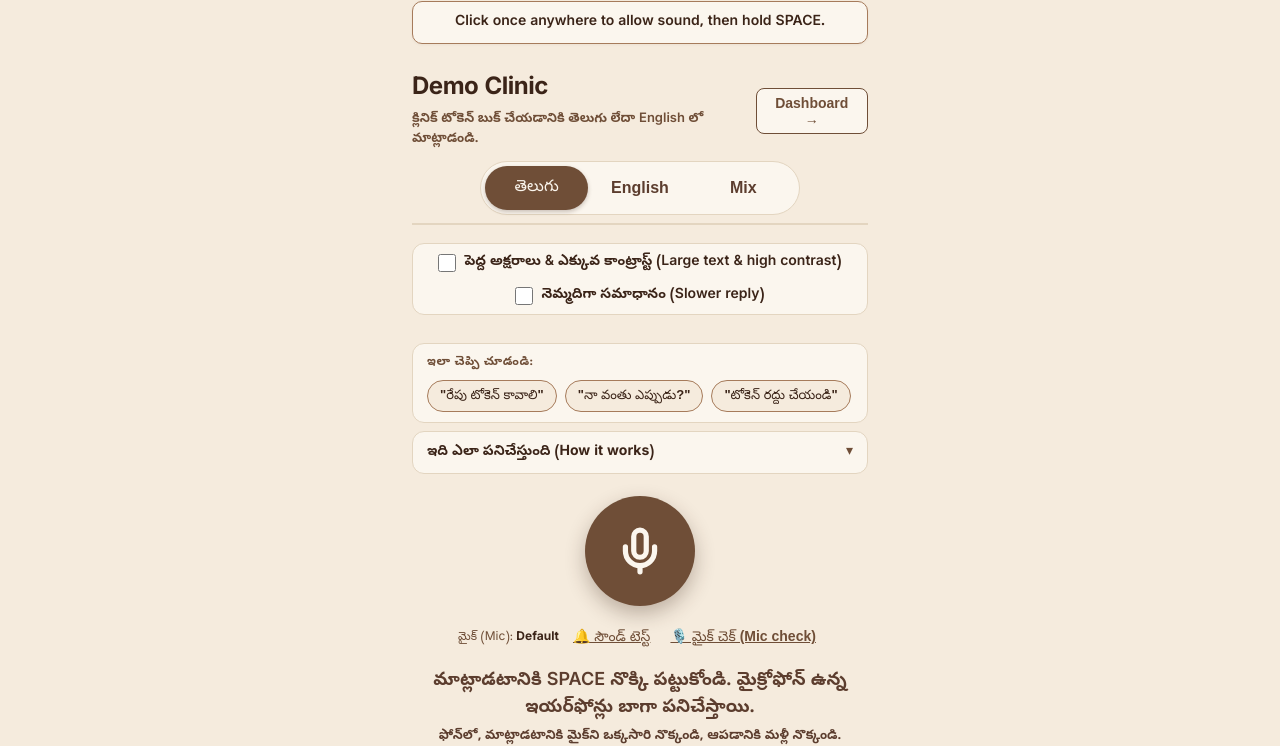
Test case: Patient App Component Tests (Vitest + RTL) › 4. Confirm-cancel buttons appear and send YES/NO turn requests
The width and height of the screenshot is (1280, 746).
// Switch to English for deterministic button and placeholder lookups
Click the button "English" at (640, 188), box [588, 166, 692, 210]
(page scrolled)
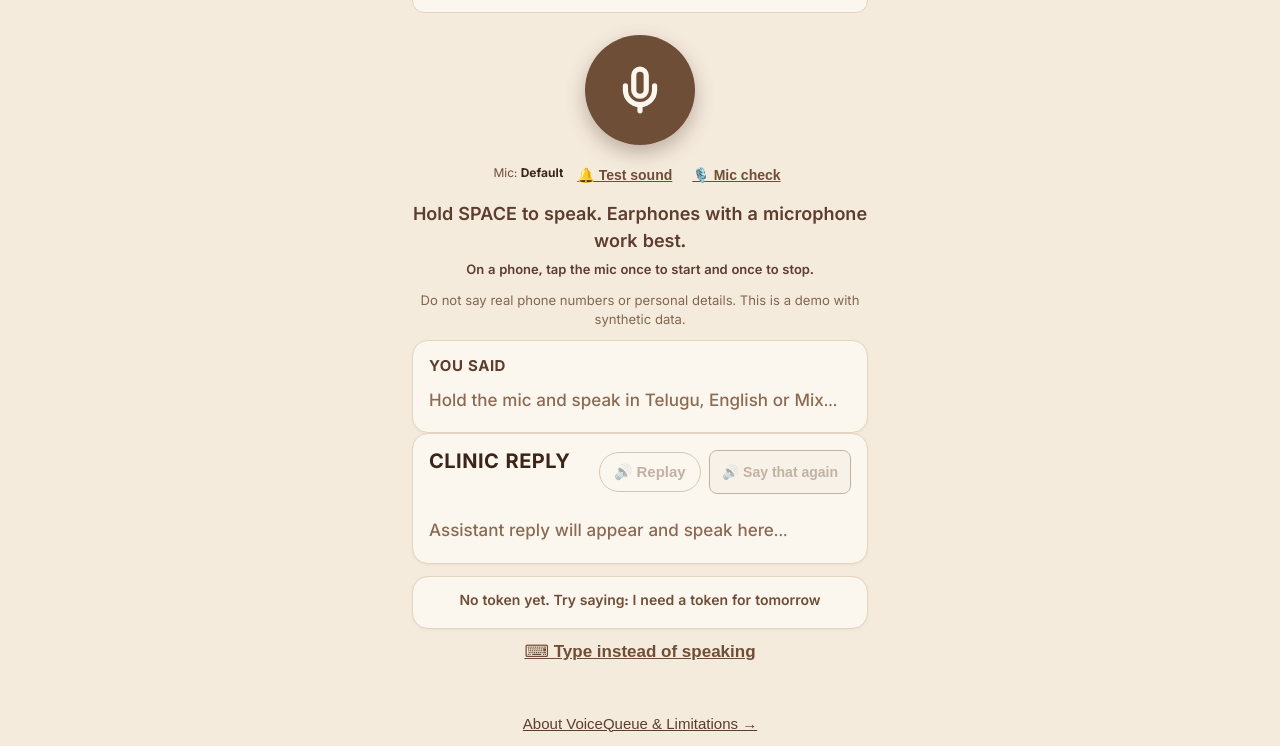
// Open typing box and send 'cancel'
Click the button "⌨ Type instead of speaking" at (640, 651), box [516, 629, 764, 673]
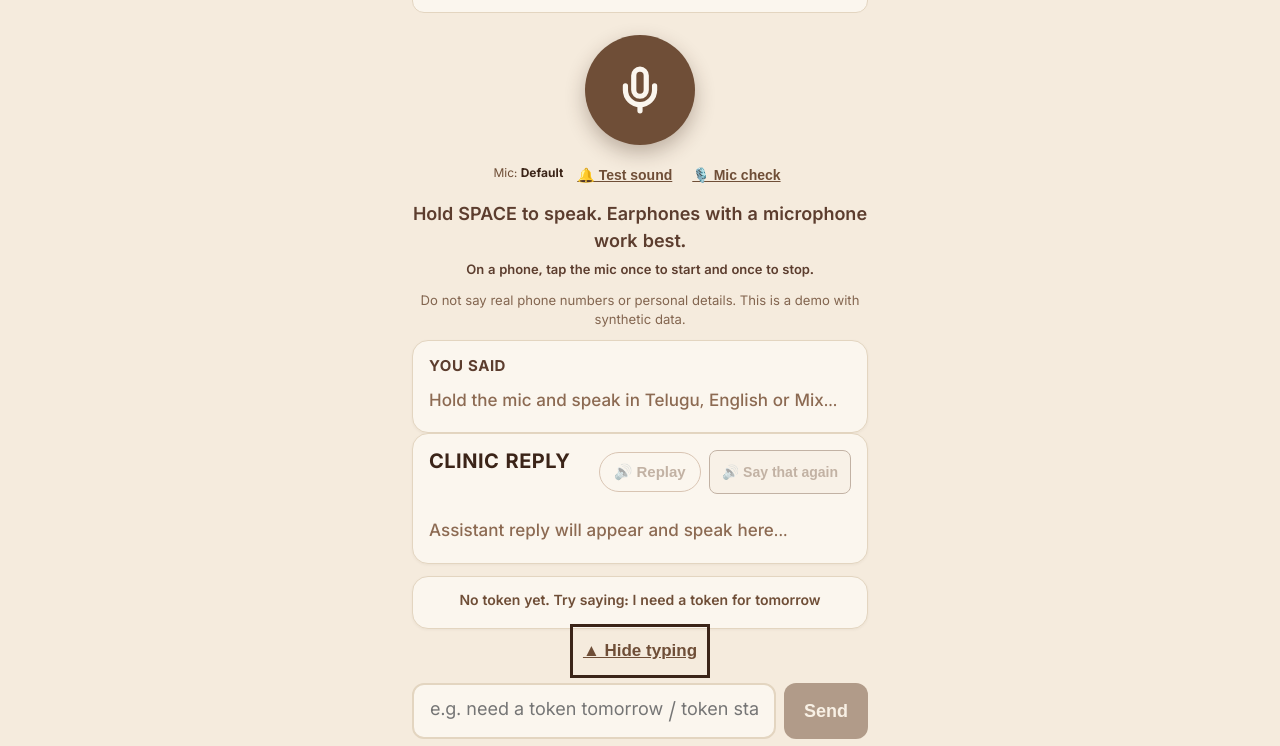
Type "cancel" into the field with placeholder "e.g. need a token tomorrow / token status" at (594, 711), box [412, 683, 776, 739]
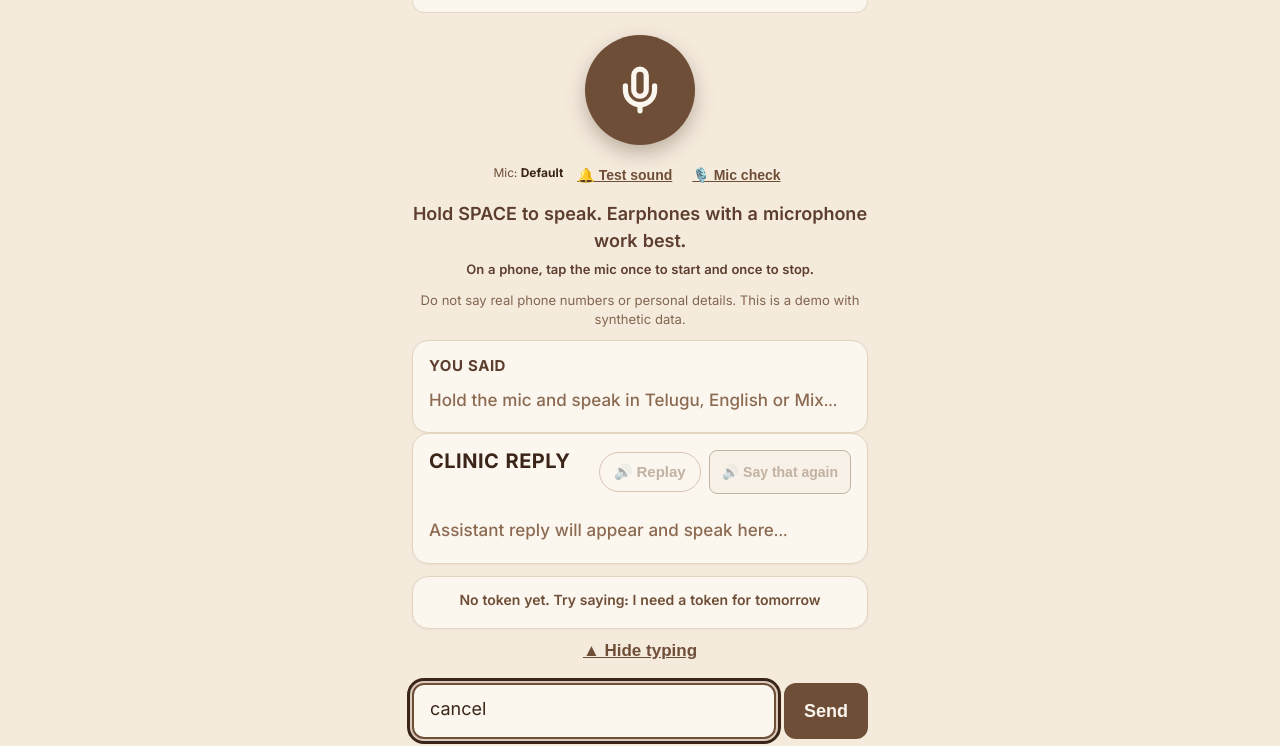
Click the button "Send" at (826, 711), box [784, 683, 868, 739]
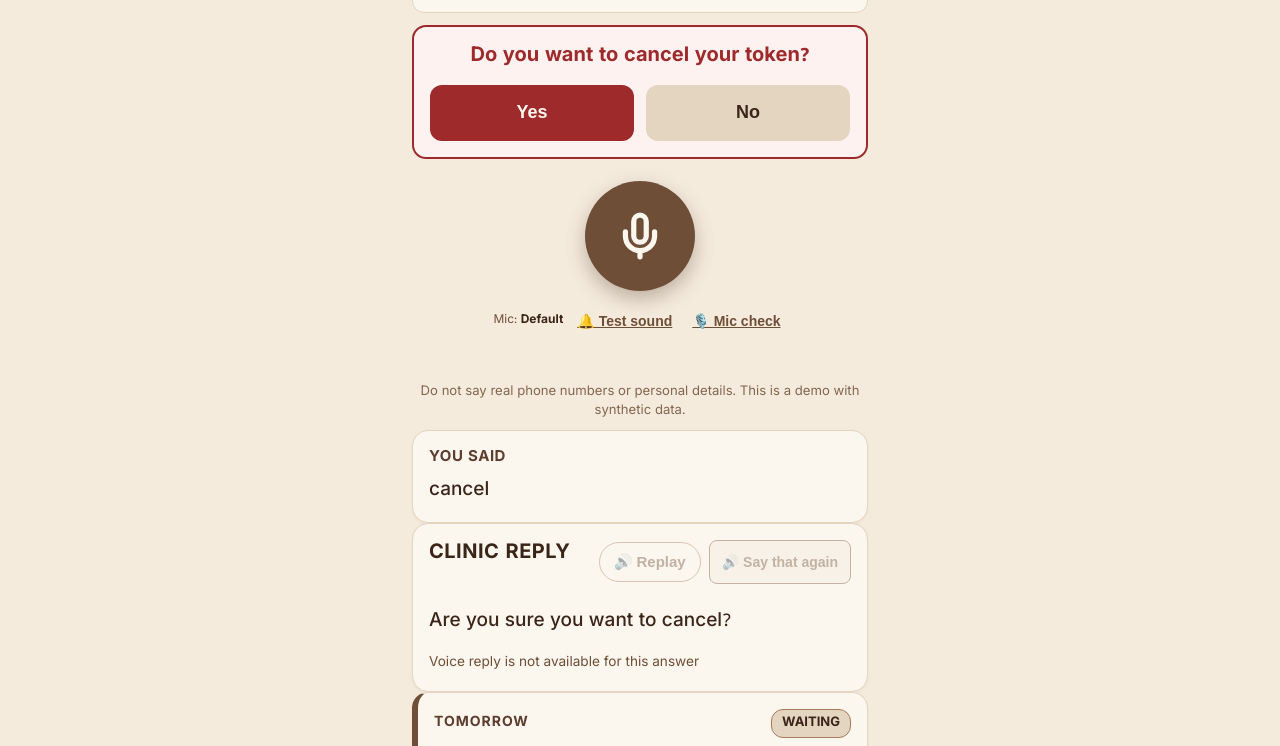
Expected: the text "Do you want to cancel your token?" is shown, [470, 44, 810, 70]
Click the button "Yes" at (532, 112), box [430, 84, 634, 140]
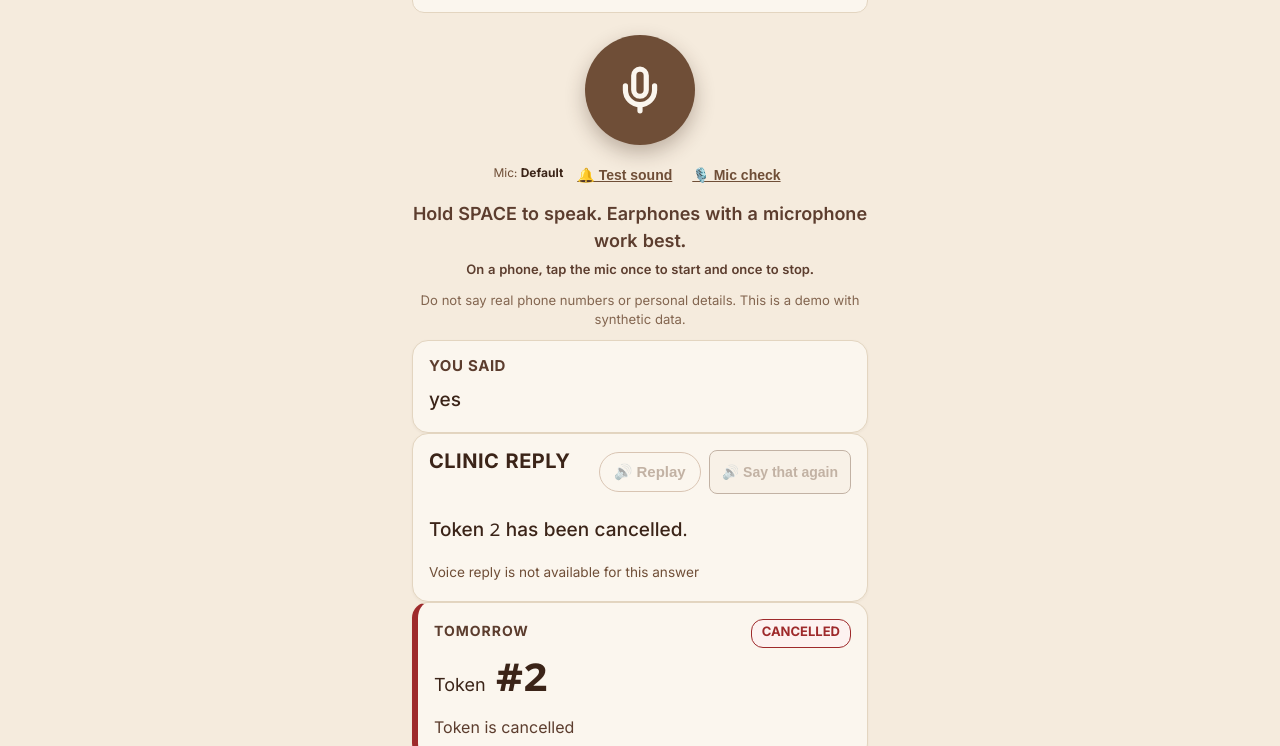
Expected: the text "Token 2 has been cancelled." is shown, [429, 519, 688, 545]
